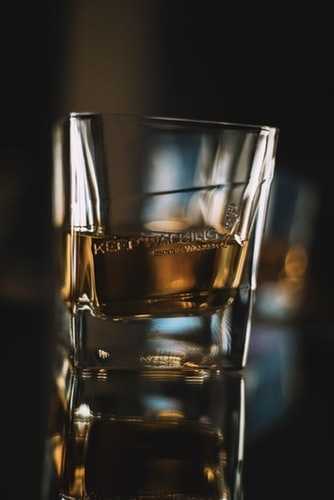whiskey: (45, 118, 275, 376)
